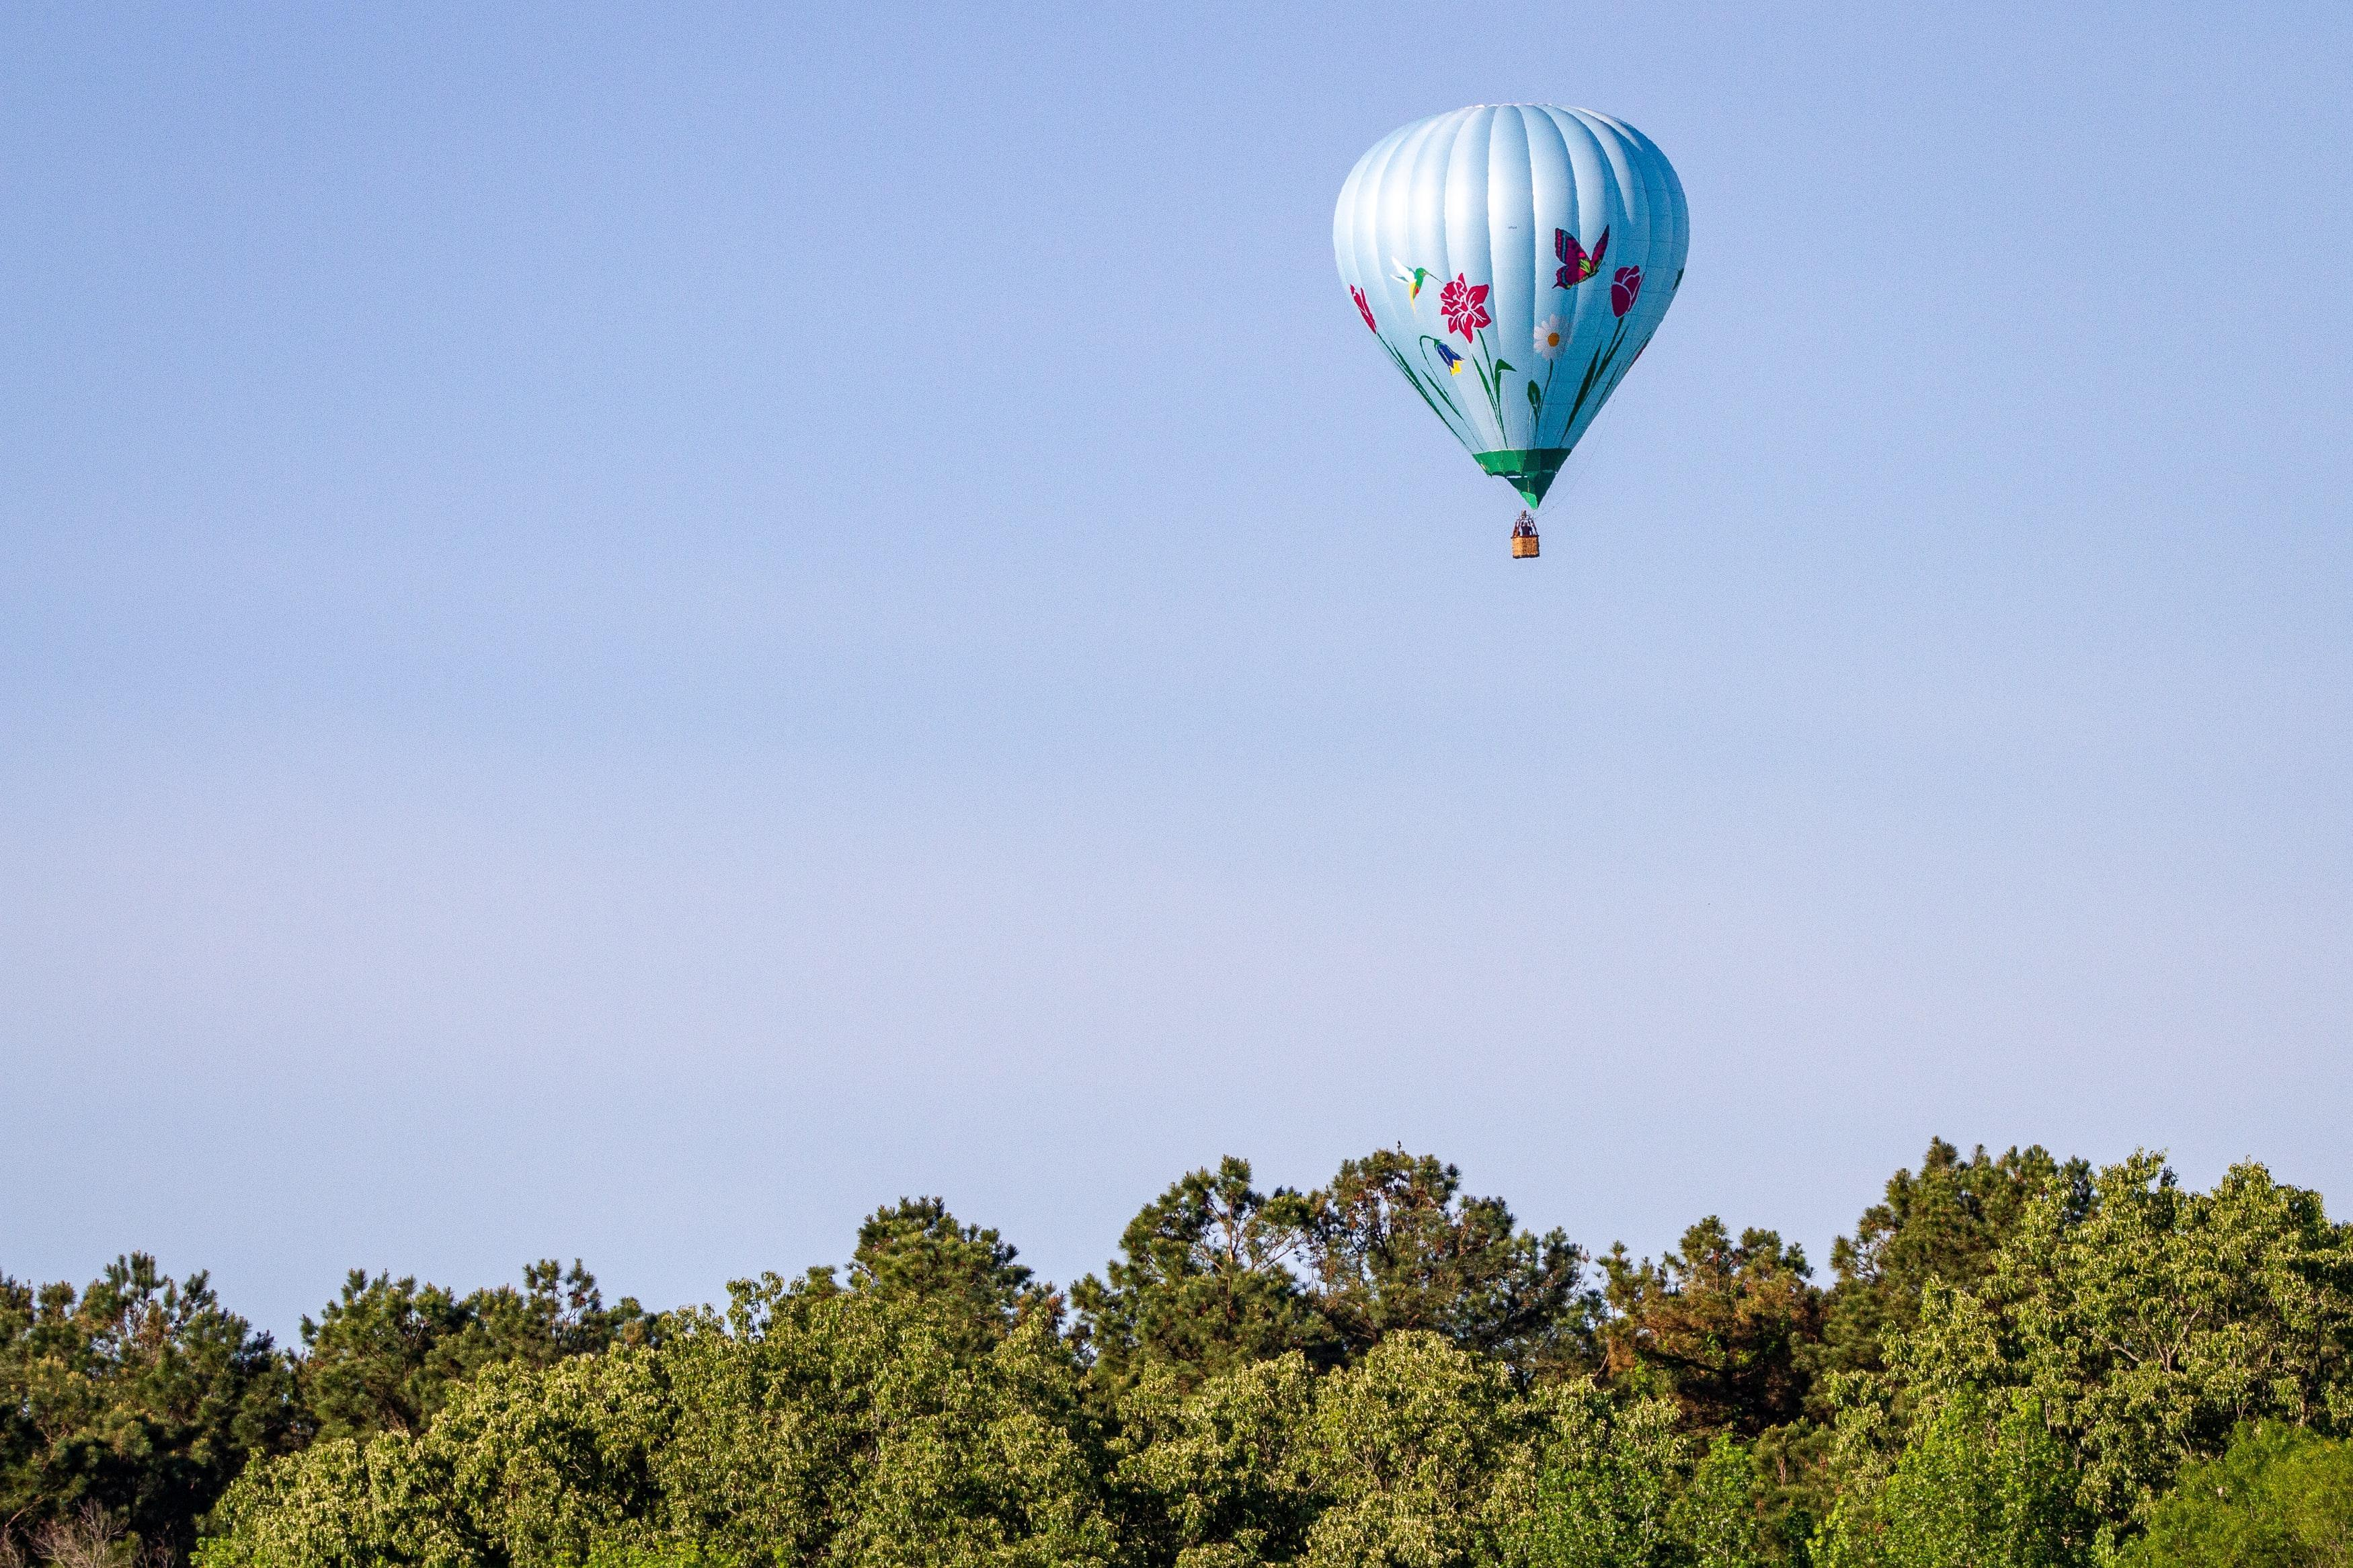hot air ballon: (1329, 91, 1695, 565)
